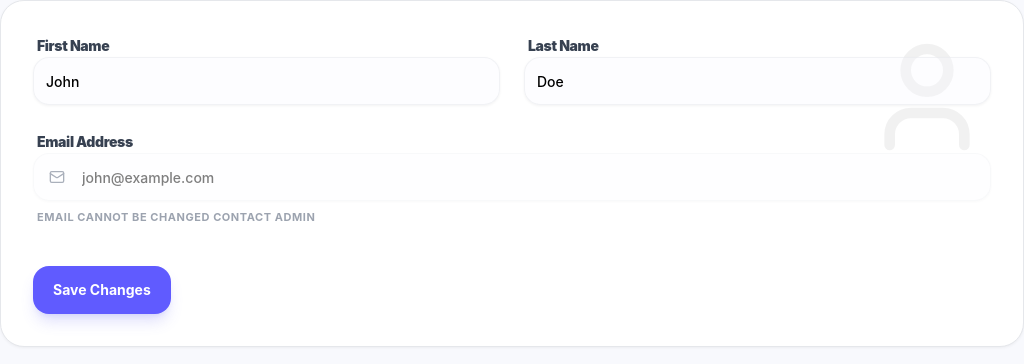
Test: UpdateProfileForm › appelle updateProfile et affiche le succès lors de la soumission
The width and height of the screenshot is (1024, 364).
Note: Modification des champs
Replace the text in the field with placeholder "Enter your first name" below "First Name" with "Jane" at (266, 81), box [33, 57, 500, 105]
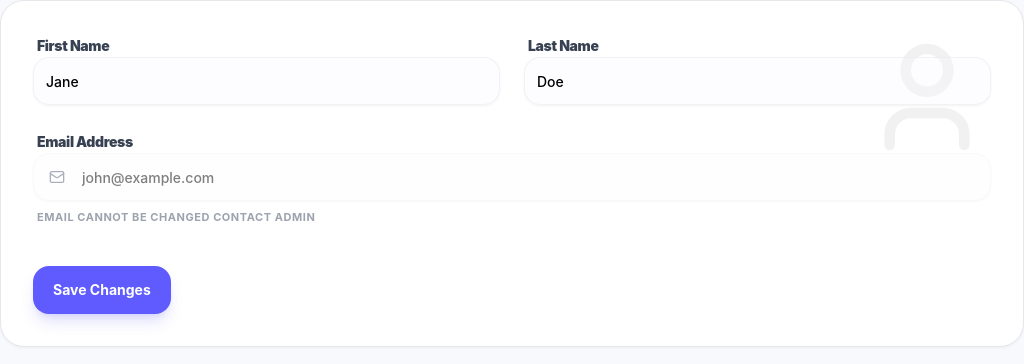
Replace the text in the field with placeholder "Enter your last name" below "Last Name" with "Smith" at (758, 81), box [524, 57, 991, 105]
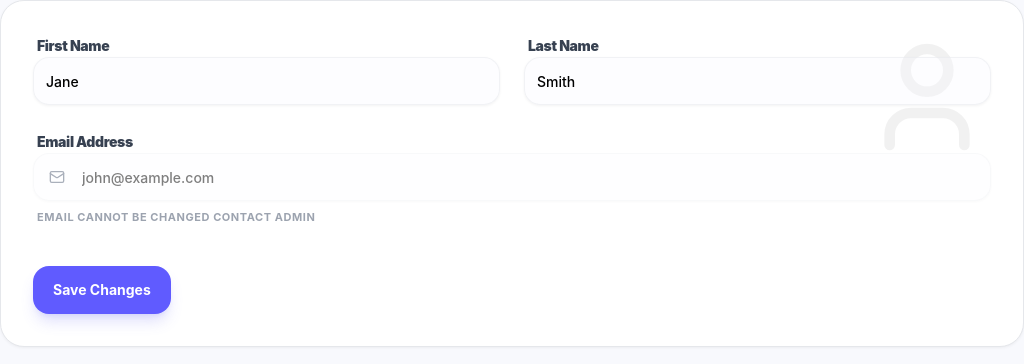
Click the button "Save Changes" at (102, 290), box [33, 266, 171, 314]
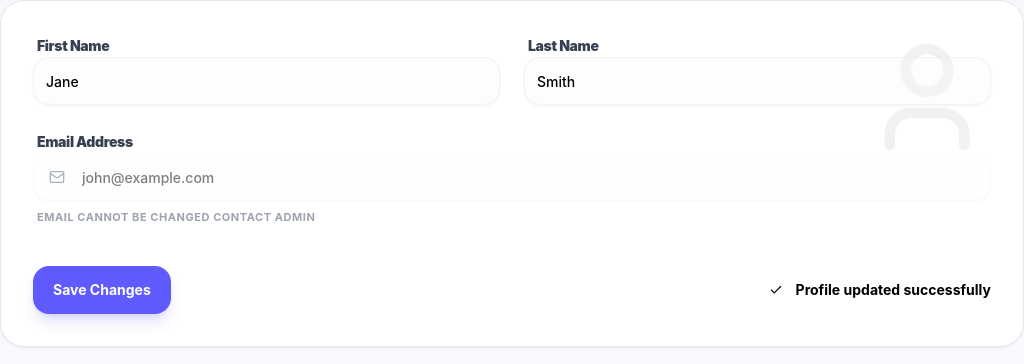
Now the text "Profile updated successfully" is shown, box [764, 278, 991, 302]
